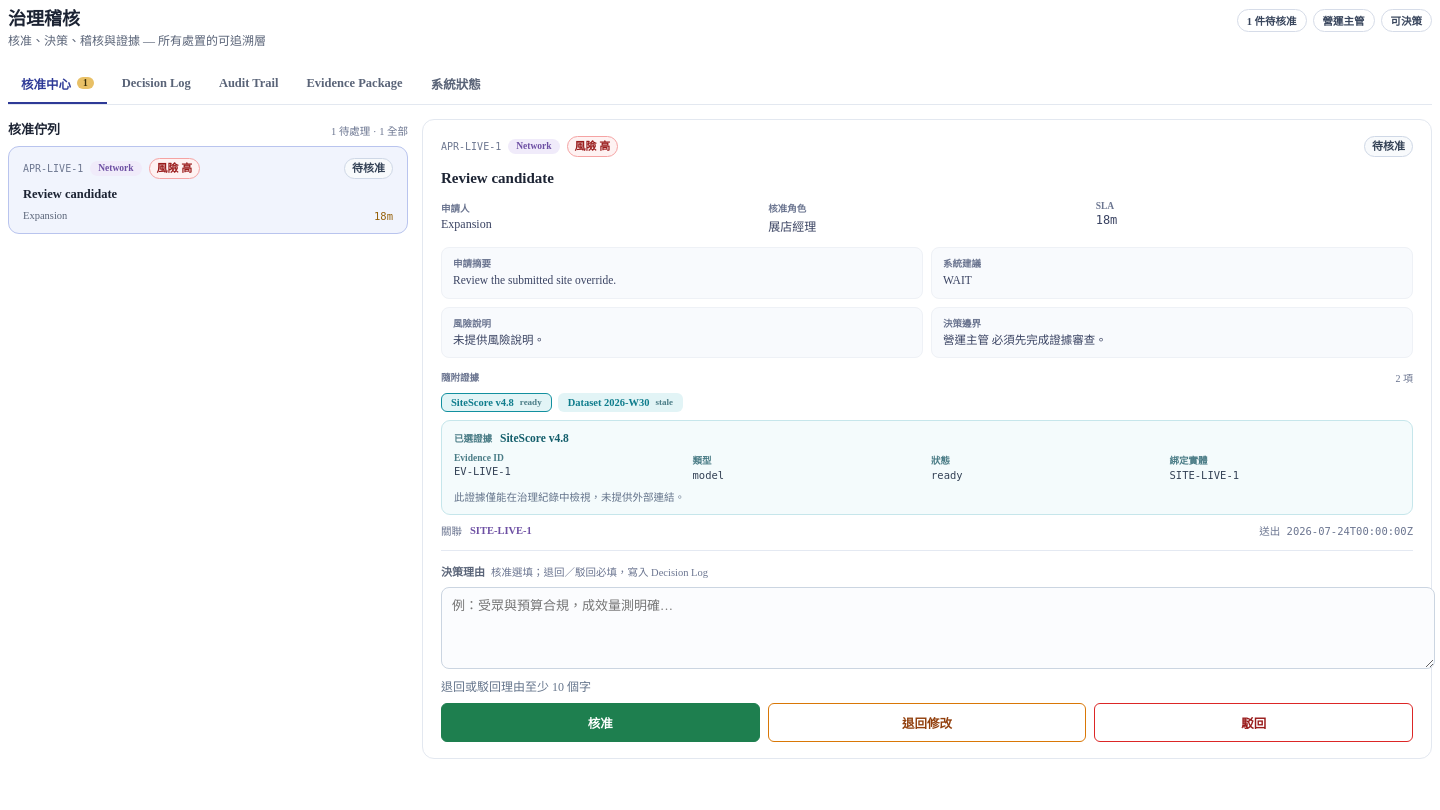
Test: GovernanceWorkspace high-risk failures › requires a durable reason before return or reject
Click the button "退回修改".
click(927, 722)  # box [768,703,1086,742]
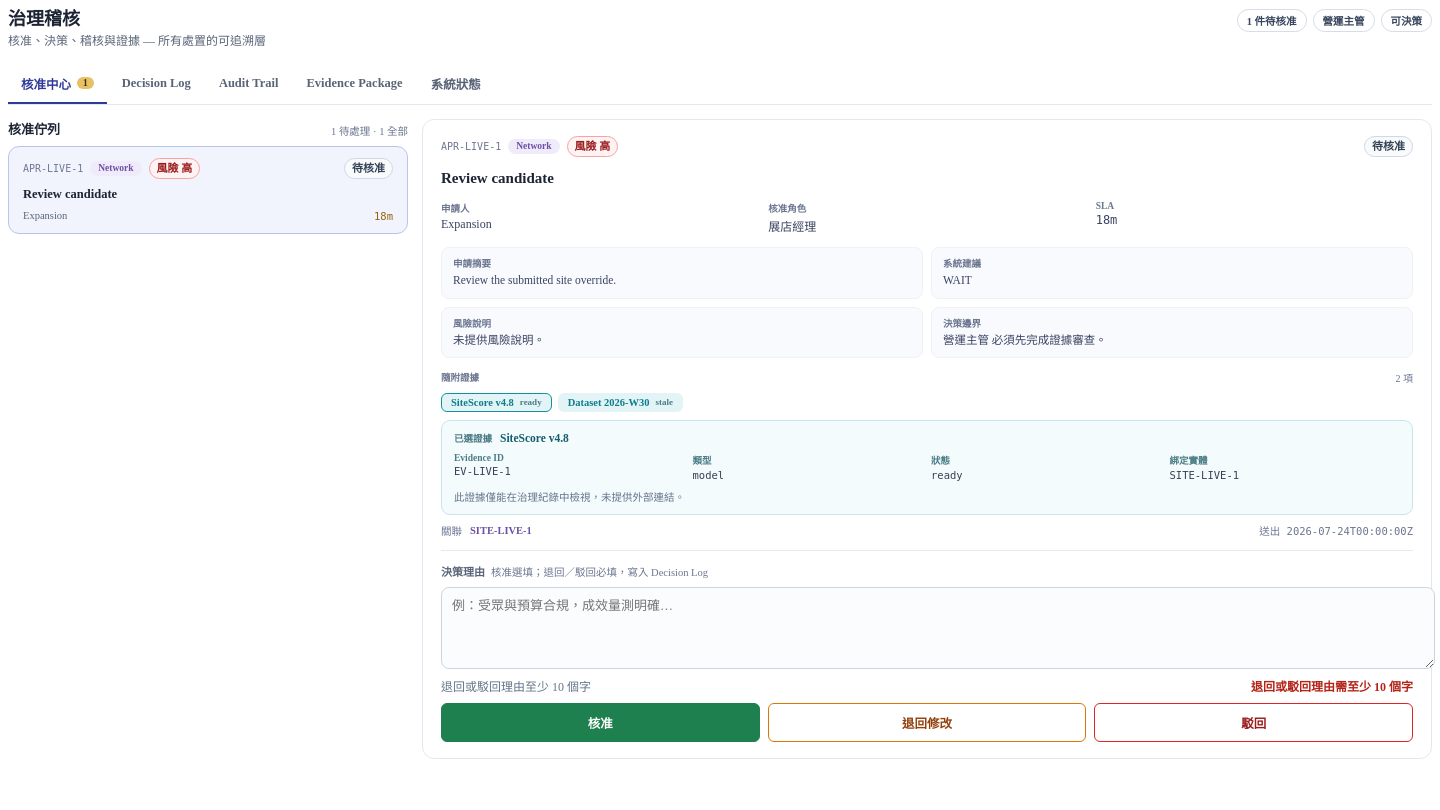
Expected: the message reads "退回或駁回理由需至少 10 個字", [1251,680,1413,694]
